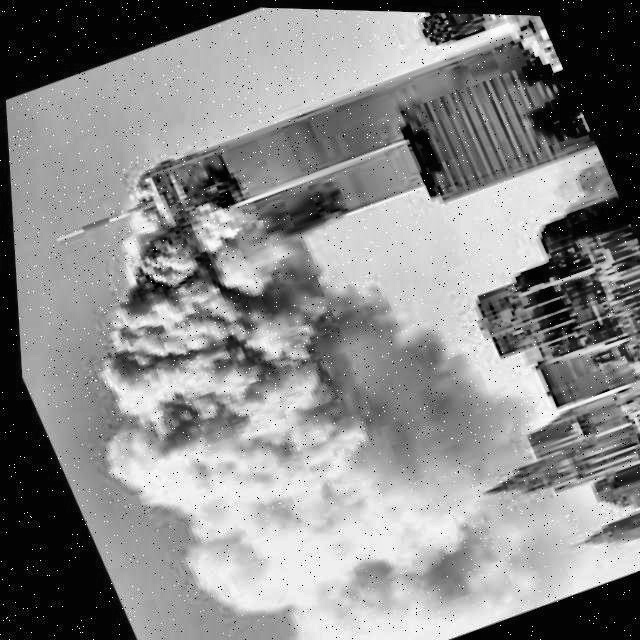Smoke: (5, 101, 619, 640)
